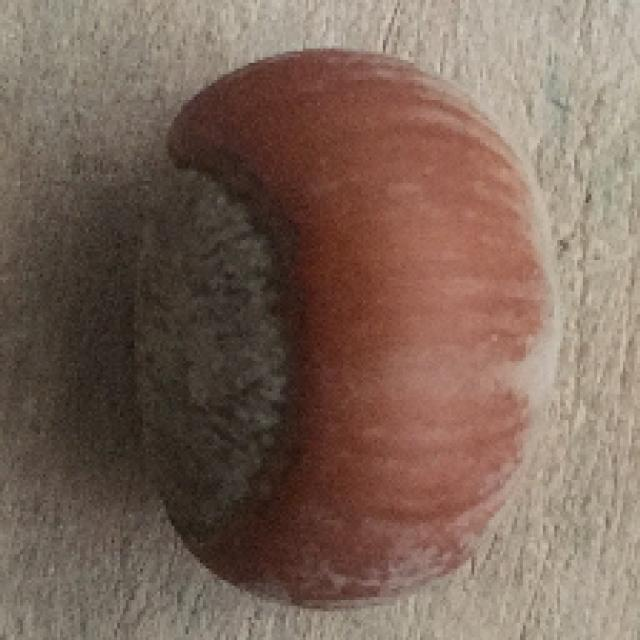qualityHazelnut: (143, 46, 562, 605)
